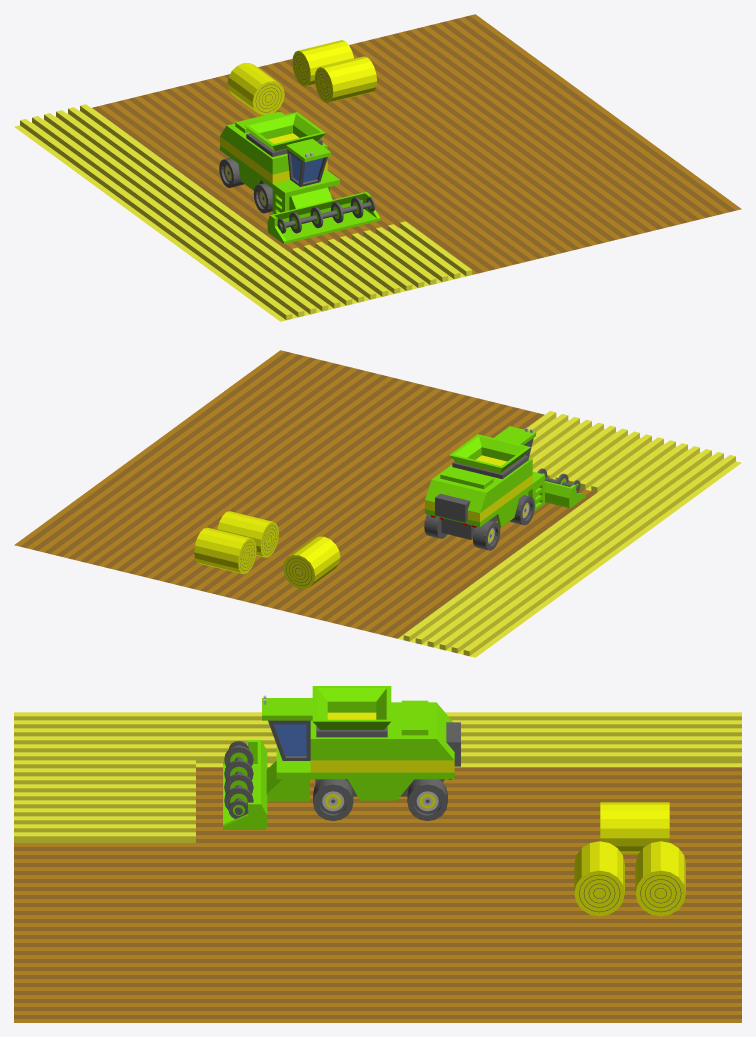
The model's file is agricultura.glb.
The picture shows the model from 3 angles, top to bottom: view 1: azimuth 30°, elevation 25°; view 2: azimuth 150°, elevation 25°; view 3: azimuth 270°, elevation 25°; orthographic projection. The views are drawn at different scales.
Visible parts, largest first — view 1: Plane001, Cylinder006, Cylinder008, Cylinder010, Cylinder009; view 2: Plane001, Cylinder006, Cylinder009, Cylinder010, Cylinder008; view 3: Plane001, Cylinder006, Cylinder009, Cylinder008, Cylinder010.
Part boxes in pixels (x1,y1,x2,y2): Plane001: (14,14,741,321); Cylinder006: (219,112,380,243); Cylinder008: (314,56,377,103); Cylinder010: (227,63,284,115); Cylinder009: (292,40,353,86); Plane001: (14,350,741,657); Cylinder006: (424,426,585,550); Cylinder009: (194,527,256,574); Cylinder010: (283,536,340,588); Cylinder008: (217,511,278,557); Plane001: (14,712,741,1022); Cylinder006: (223,686,460,829); Cylinder009: (635,841,685,916); Cylinder008: (574,841,624,916); Cylinder010: (600,802,669,852).
Bounding box in the file's own units: 5.54 × 0.8198 × 5.54.
